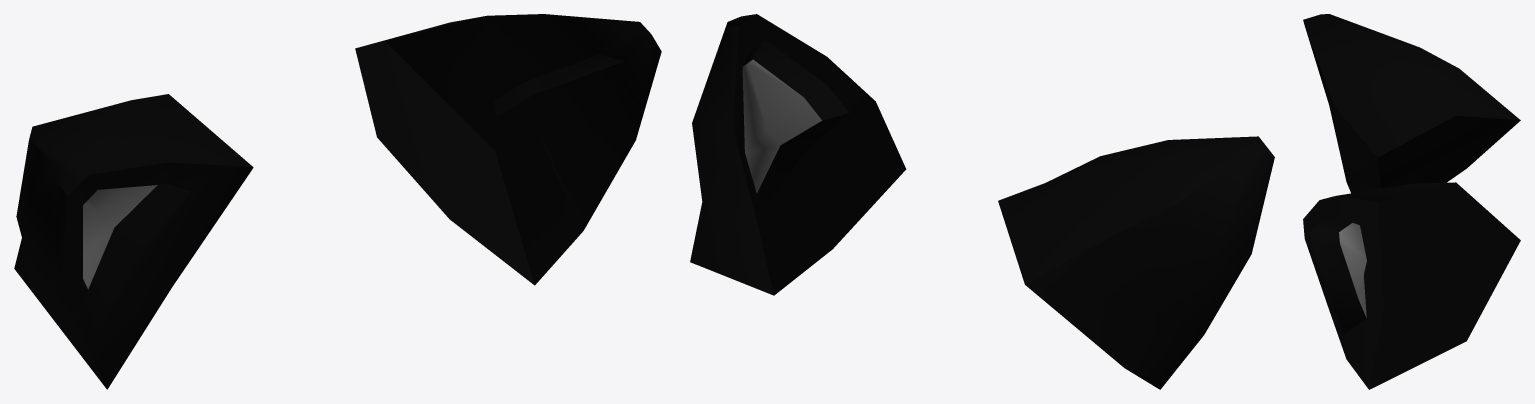
Rendered from catears2.fbx.
3 renders of one model, left to right at view 1: azimuth 30°, elevation 25°; view 2: azimuth 150°, elevation 25°; view 3: azimuth 270°, elevation 25°, orthographic. The views are drawn at different scales.
Parts seen in each view (by area): view 1: catears2; view 2: catears2; view 3: catears2.
Boxes of the visible parts, x1=… form: catears2: x1=14, y1=14, x2=661, y2=389; catears2: x1=690, y1=14, x2=1274, y2=389; catears2: x1=1303, y1=14, x2=1520, y2=389.
Size of the model in its own units: 133 by 57.11 by 57.14.
1 material, 1 textured.
